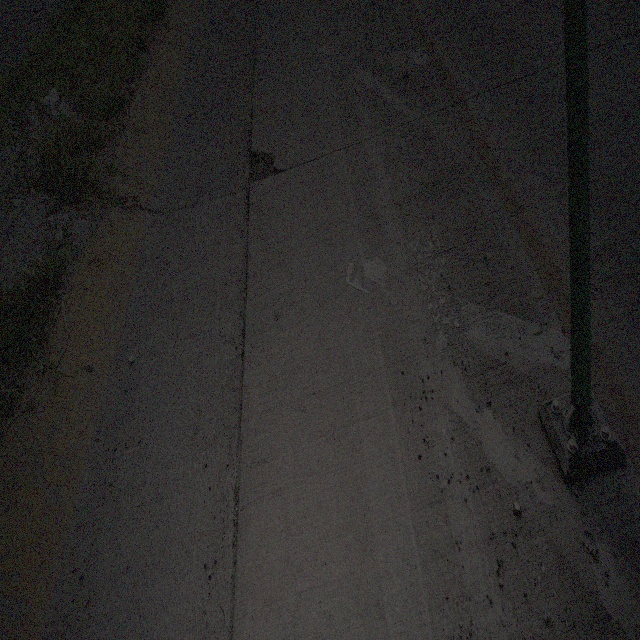pothole: (244, 144, 284, 188)
